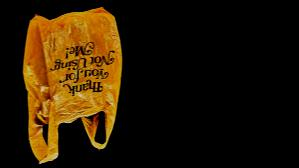Plastic: (21, 5, 124, 165)
